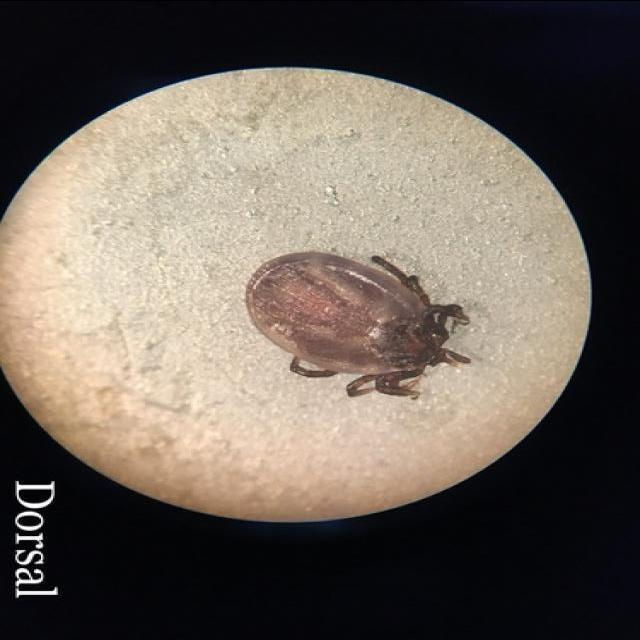Ixodes Ricinus-F-Fed: (241, 250, 469, 399)
